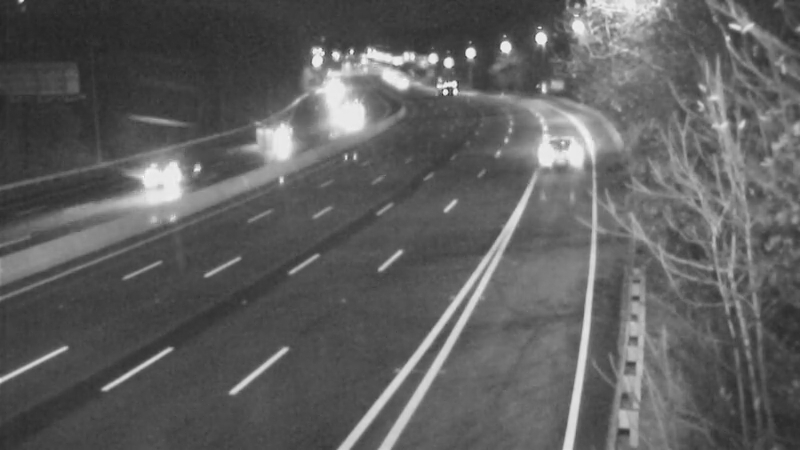vehicle: (108, 144, 188, 224), (416, 63, 466, 113), (375, 56, 425, 106), (530, 123, 580, 173), (254, 114, 304, 164), (325, 90, 375, 140)
